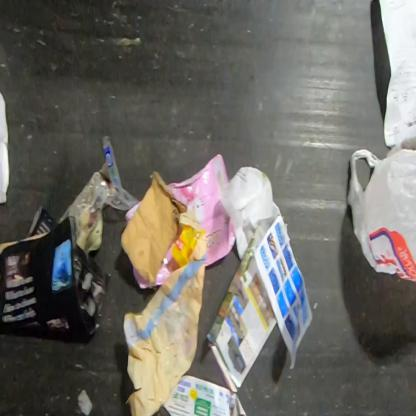cardboard: (120, 171, 186, 285)
soft_plastic: (345, 139, 416, 283), (58, 135, 140, 250), (166, 153, 236, 267), (132, 223, 184, 290), (124, 202, 140, 222)
